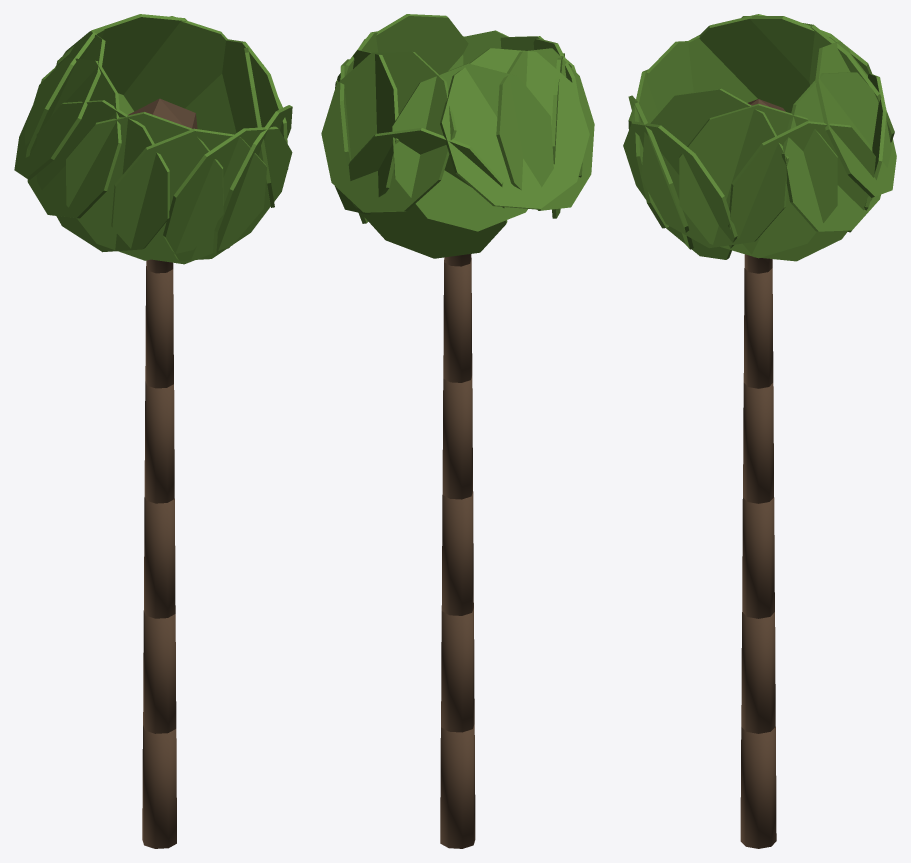
File: tree-palm.glb
The picture shows the model from 3 angles, left to right: view 1: azimuth 30°, elevation 25°; view 2: azimuth 150°, elevation 25°; view 3: azimuth 270°, elevation 25°; orthographic projection.
Visible parts, largest first — view 1: Fan9, Fan10, Fan8, Fan7, Fan2, Fan11, TrunkRing0, Fan3, TrunkRing1, TrunkRing2, Fan0, TrunkRing3 (+7 smaller); view 2: Fan6, Fan3, Fan5, Fan4, Fan7, TrunkRing0, TrunkRing1, TrunkRing2, TrunkRing3, Fan13, TrunkRing4, Fan2 (+4 smaller); view 3: Fan0, Fan13, Fan2, Fan1, Fan7, TrunkRing0, TrunkRing1, TrunkRing2, Fan12, Fan3, TrunkRing3, TrunkRing4 (+7 smaller).
Part boxes in pixels (bbox=[...]): Fan9: bbox=[66, 112, 223, 260]; Fan10: bbox=[111, 128, 266, 264]; Fan8: bbox=[36, 100, 169, 252]; Fan7: bbox=[24, 57, 121, 218]; Fan2: bbox=[123, 16, 227, 111]; Fan11: bbox=[163, 126, 292, 260]; TrunkRing0: bbox=[142, 725, 176, 848]; Fan3: bbox=[56, 14, 187, 94]; TrunkRing1: bbox=[143, 610, 176, 733]; TrunkRing2: bbox=[144, 496, 175, 618]; Fan0: bbox=[222, 39, 288, 169]; TrunkRing3: bbox=[144, 381, 174, 503]; Fan6: bbox=[440, 48, 589, 209]; Fan3: bbox=[321, 51, 456, 212]; Fan5: bbox=[392, 63, 553, 231]; Fan4: bbox=[348, 128, 507, 258]; Fan7: bbox=[496, 48, 594, 210]; TrunkRing0: bbox=[440, 724, 475, 848]; TrunkRing1: bbox=[441, 608, 474, 732]; TrunkRing2: bbox=[441, 491, 473, 615]; TrunkRing3: bbox=[442, 376, 472, 499]; Fan13: bbox=[335, 14, 468, 88]; TrunkRing4: bbox=[443, 259, 472, 382]; Fan2: bbox=[335, 50, 399, 214]; Fan0: bbox=[679, 103, 837, 258]; Fan13: bbox=[641, 88, 788, 248]; Fan2: bbox=[781, 72, 891, 231]; Fan1: bbox=[728, 121, 875, 261]; Fan7: bbox=[699, 14, 809, 113]; TrunkRing0: bbox=[740, 727, 776, 848]; TrunkRing1: bbox=[741, 612, 775, 733]; TrunkRing2: bbox=[742, 497, 774, 618]; Fan12: bbox=[623, 121, 737, 259]; Fan3: bbox=[815, 41, 896, 197]; TrunkRing3: bbox=[743, 383, 773, 503]; TrunkRing4: bbox=[743, 268, 773, 388].
Size of the model in its own units: 4.13 by 13.31 by 4.11.
